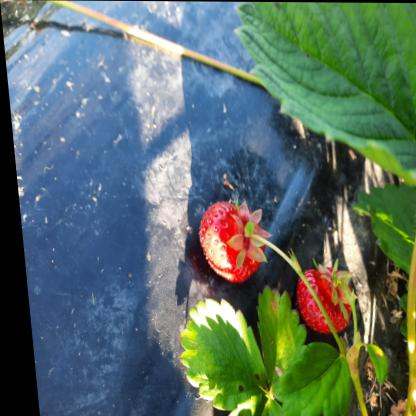ripe: (186, 198, 264, 283), (295, 272, 344, 330)
